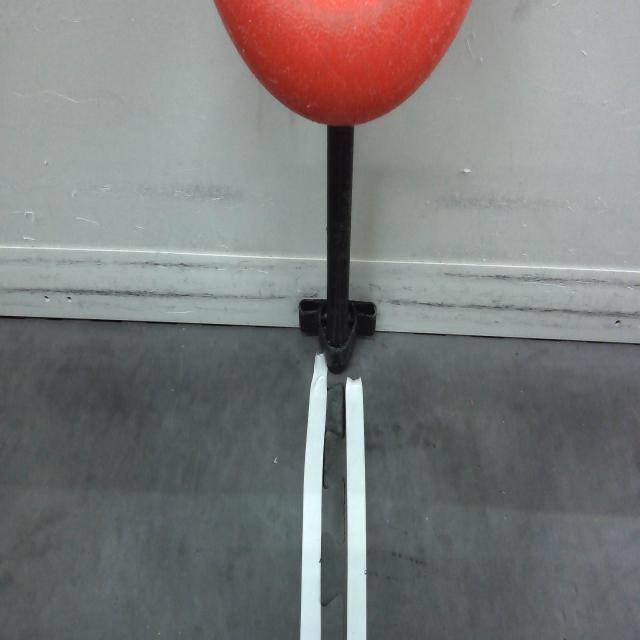Red-Ring: (214, 0, 476, 126)
